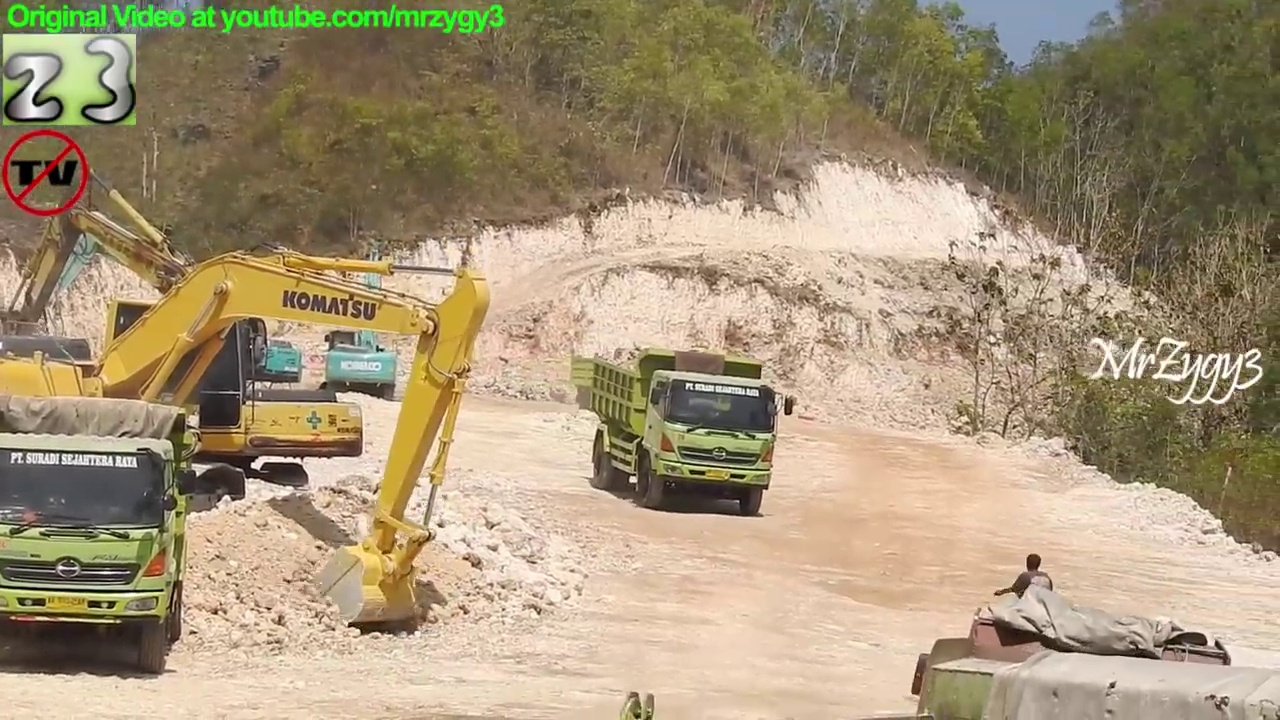excavator: (2, 243, 495, 628), (2, 162, 369, 503), (30, 212, 312, 464), (320, 238, 403, 410)
truck: (615, 583, 1280, 720), (1, 389, 202, 678), (591, 344, 800, 520)
